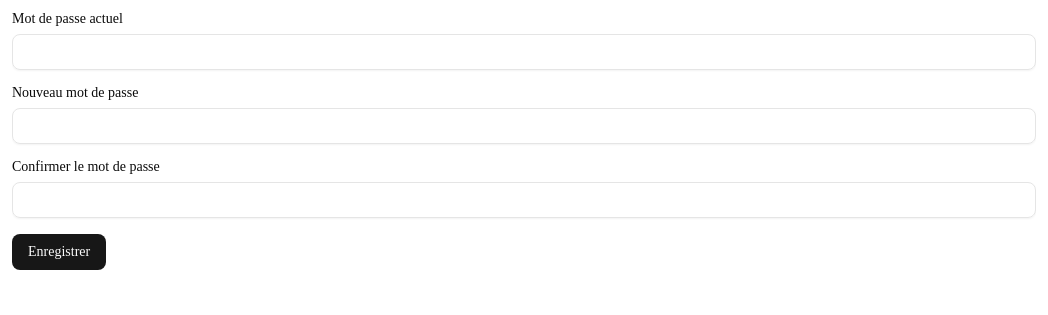
it: ChangePasswordForm › shows a mismatch error when the confirmation password differs
Type "oldpassword1" into the password field labelled "Mot de passe actuel" at (524, 52), box [12,34,1036,70]
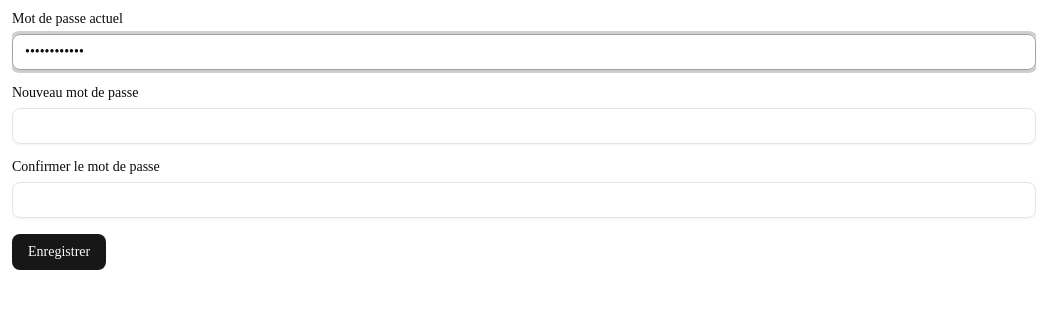
Type "newpassword1" into the password field labelled "Nouveau mot de passe" at (524, 126), box [12,108,1036,144]
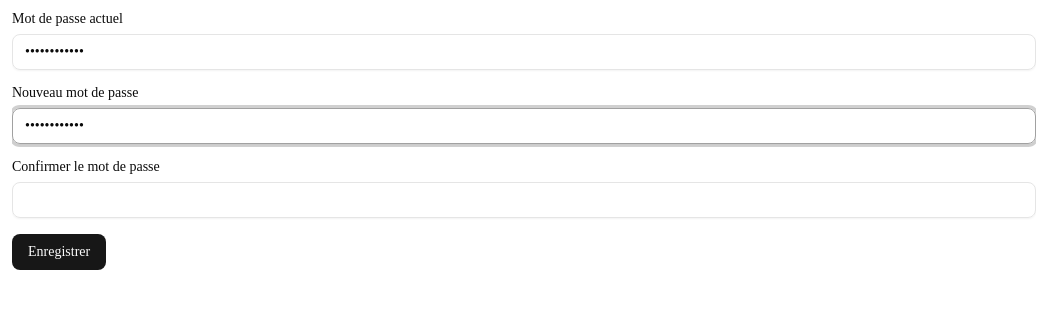
Type "different1" into the password field labelled "Confirmer le mot de passe" at (524, 200), box [12,182,1036,218]
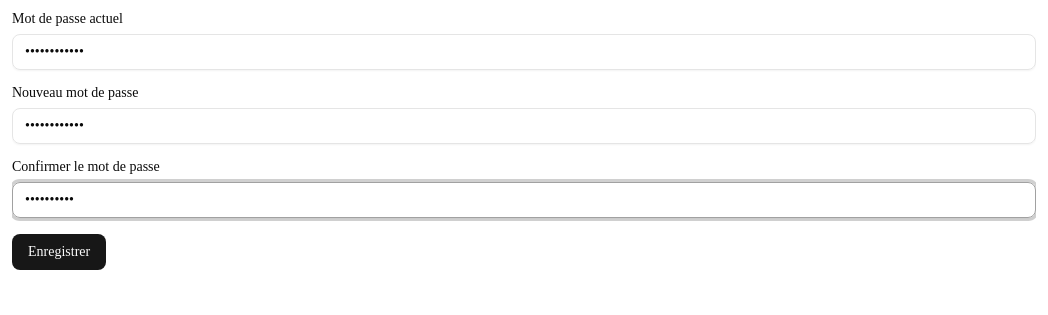
Click the button "Enregistrer" at (59, 252), box [12,234,106,270]
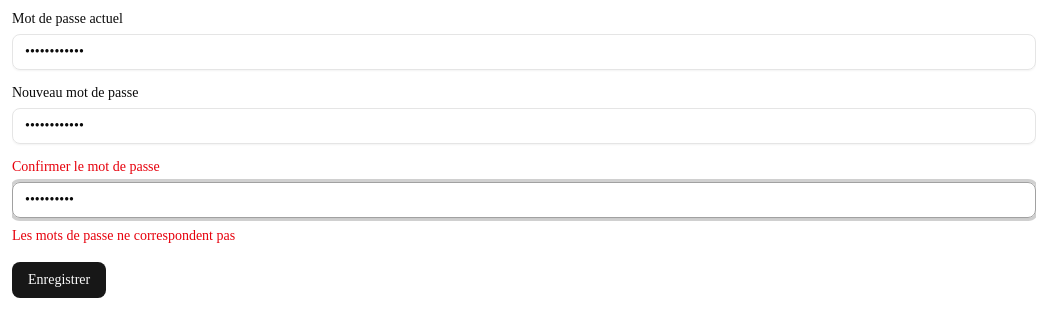
Now the text "Les mots de passe ne correspondent pas" is shown, box [12,228,235,243]
